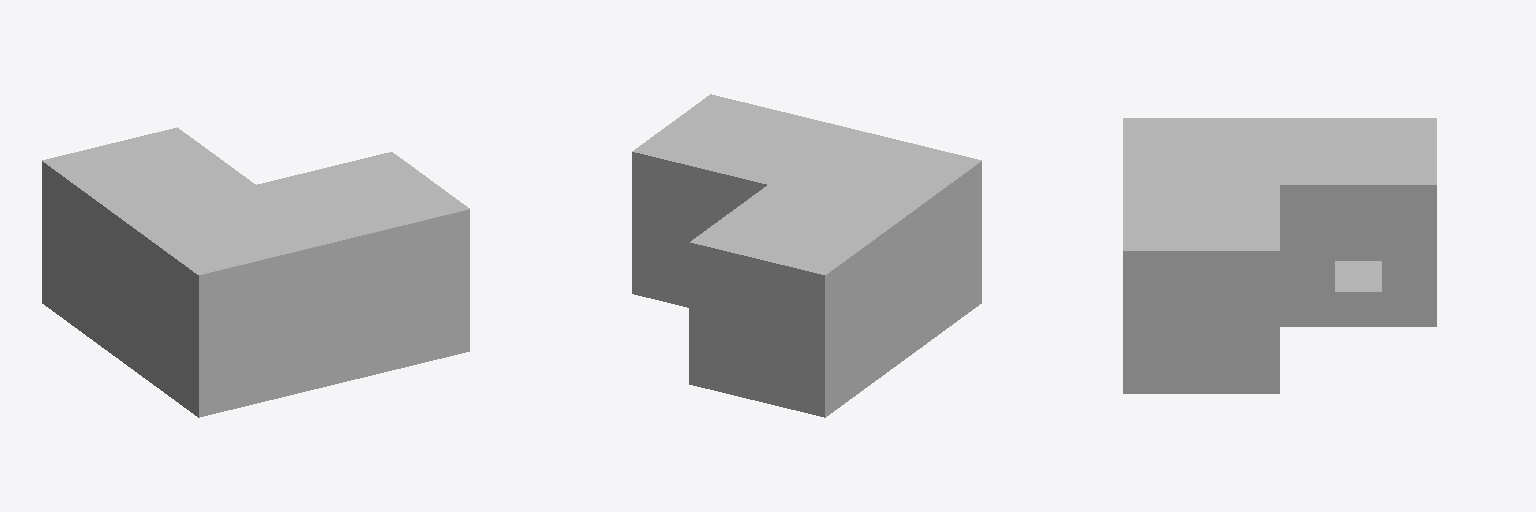
Rendered from room.obj.
The picture shows the model from 3 angles: view 1: azimuth 30°, elevation 25°; view 2: azimuth 150°, elevation 25°; view 3: azimuth 270°, elevation 25°; orthographic projection.
Parts seen in each view (by area): view 1: Cube; view 2: Cube; view 3: Cube, uploads_door_door_PNG17579.
Part boxes in pixels (left/top/right/bottom): Cube: left=42, top=127, right=469, bottom=417; Cube: left=632, top=94, right=981, bottom=417; Cube: left=1123, top=118, right=1436, bottom=393; uploads_door_door_PNG17579: left=1176, top=287, right=1226, bottom=393.
Size of the model in its own units: 8 by 4 by 8.